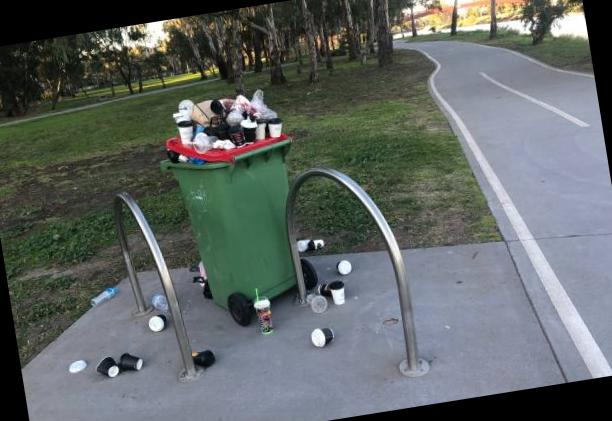trash: (147, 75, 298, 175), (186, 248, 229, 292), (245, 292, 282, 337), (316, 276, 352, 312), (86, 282, 124, 312), (298, 288, 331, 316), (293, 232, 333, 254), (332, 251, 362, 278), (94, 348, 120, 378), (148, 284, 175, 312), (308, 324, 336, 348), (122, 343, 146, 370), (188, 344, 214, 368), (60, 356, 86, 379), (146, 311, 168, 334)
trash_can_overflow: (28, 66, 388, 397)
